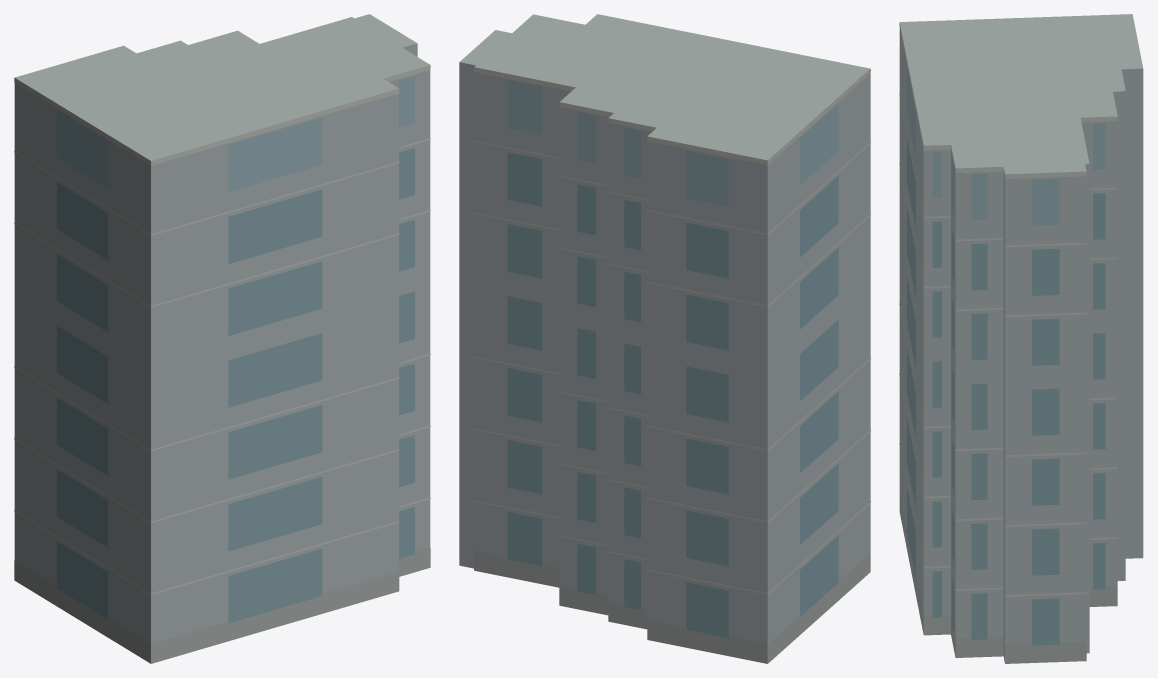
File: survey-upis-32960640.glb
The picture shows the model from 3 angles, left to right: view 1: azimuth 30°, elevation 25°; view 2: azimuth 150°, elevation 25°; view 3: azimuth 270°, elevation 25°; orthographic projection. The views are drawn at different scales.
Visible parts, largest first — view 1: survey-upis-32960640.tmp; view 2: survey-upis-32960640.tmp; view 3: survey-upis-32960640.tmp.
Part boxes in pixels (<box>): survey-upis-32960640.tmp: <box>14,14,430,663</box>; survey-upis-32960640.tmp: <box>459,14,870,663</box>; survey-upis-32960640.tmp: <box>899,14,1143,663</box>.
Size of the model in its own units: 17.44 by 24.8 by 11.21.
